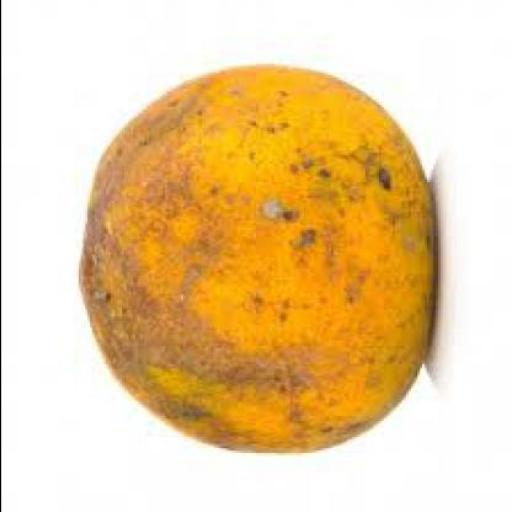biodegradable: (75, 64, 435, 453)
